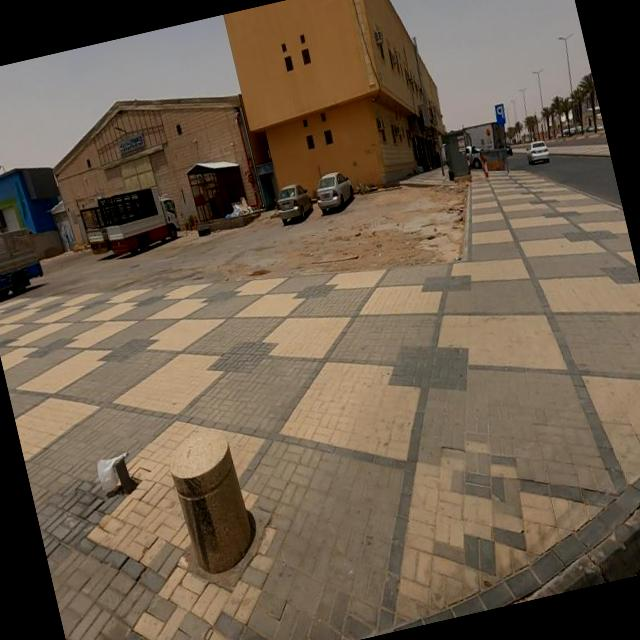debris: (50, 389, 176, 542), (198, 168, 284, 248)
